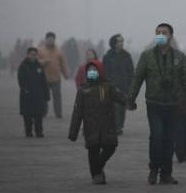person: (126, 22, 186, 184), (68, 60, 125, 186), (102, 33, 137, 134), (18, 46, 48, 138), (37, 31, 69, 116), (74, 48, 103, 89)
